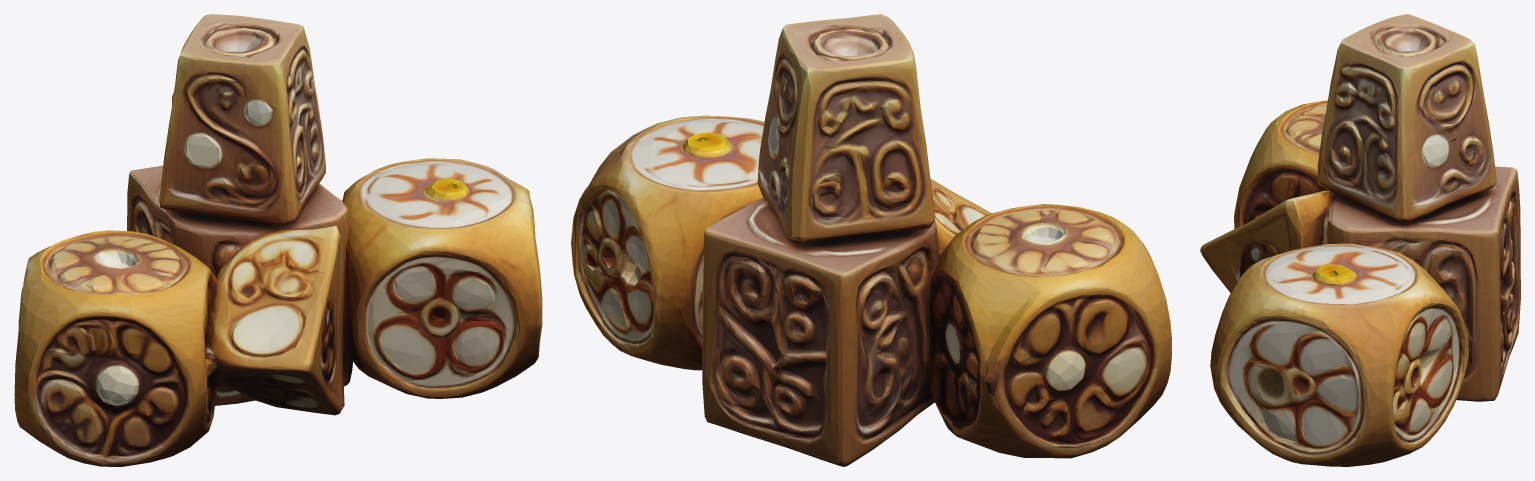
Rendered from wood-and-bone-dice-3d.jpeg.glb.
3 renders of one model, left to right at view 1: azimuth 30°, elevation 25°; view 2: azimuth 150°, elevation 25°; view 3: azimuth 270°, elevation 25°, orthographic. The views are drawn at different scales.
Visible parts, largest first — view 1: world; view 2: world; view 3: world.
Part boxes in pixels (x1,y1,x2,y2): world: (14, 14, 542, 466); world: (571, 14, 1171, 466); world: (1200, 14, 1520, 466).
Size of the model in its own units: 0.9988 by 0.6193 by 0.5574.
1 material, 1 textured.
